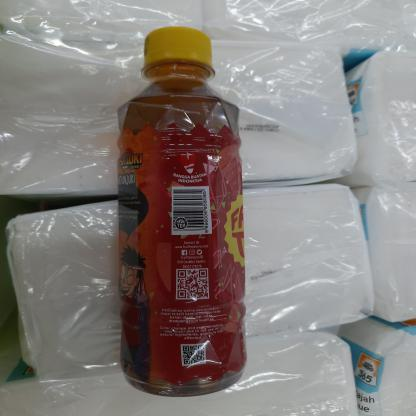bottle: (108, 24, 250, 400)
